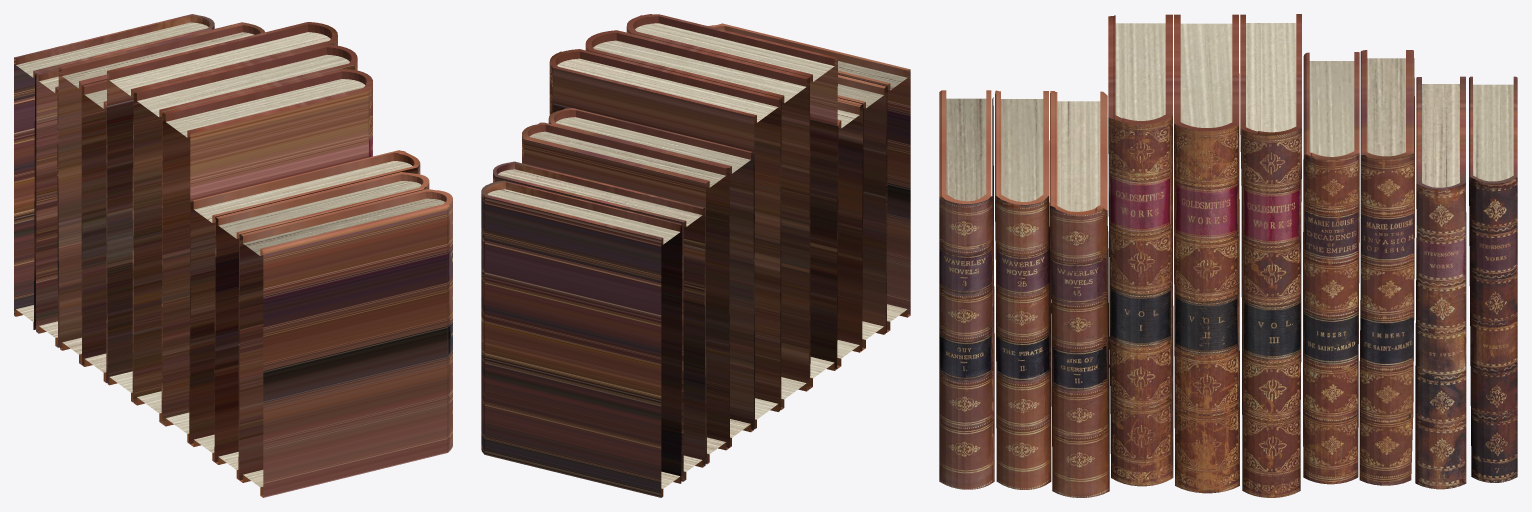
The model's file is BooksGroup01.fbx.
3 renders of one model, left to right at view 1: azimuth 30°, elevation 25°; view 2: azimuth 150°, elevation 25°; view 3: azimuth 270°, elevation 25°, orthographic. The views are drawn at different scales.
Parts seen in each view (by area): view 1: Book_pack_3; view 2: Book_pack_3; view 3: Book_pack_3.
Part boxes in pixels (bbox=[...]): Book_pack_3: bbox=[14, 14, 452, 497]; Book_pack_3: bbox=[481, 14, 910, 497]; Book_pack_3: bbox=[939, 14, 1517, 497].
Size of the model in its own units: 20.86 by 29.16 by 42.12.
2 materials, 2 textured.
